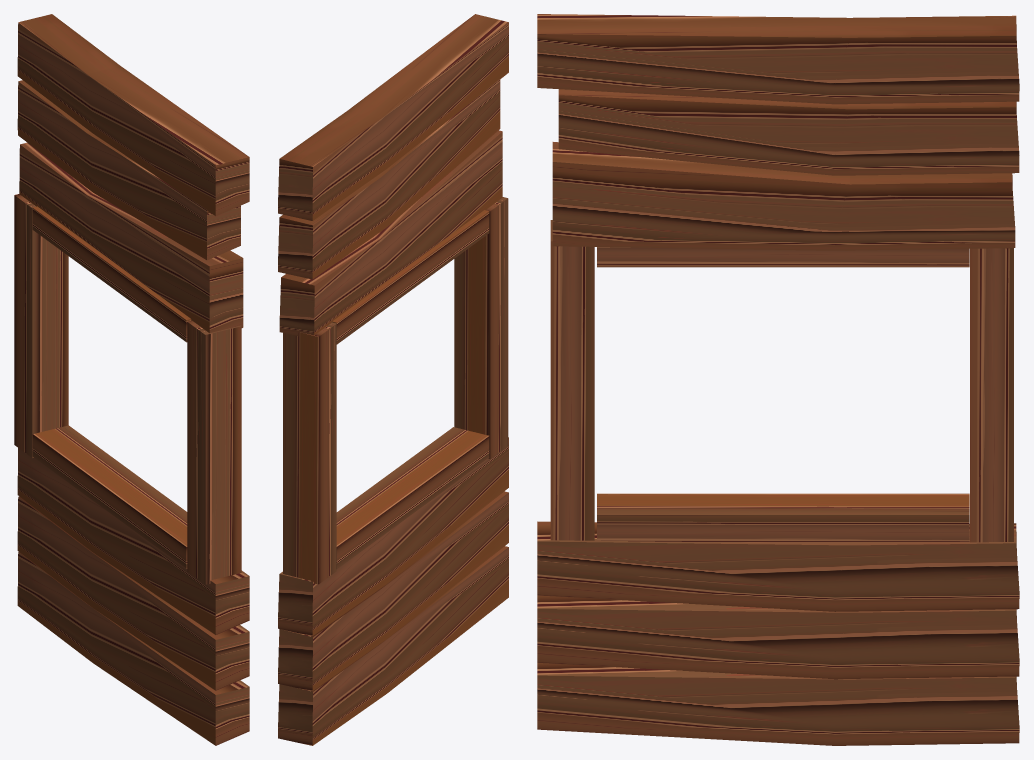
The model's file is MSH_Piso1_Ventana01.FBX.
3 renders of one model, left to right at view 1: azimuth 30°, elevation 25°; view 2: azimuth 150°, elevation 25°; view 3: azimuth 270°, elevation 25°, orthographic. The views are drawn at different scales.
Parts seen in each view (by area): view 1: MSH_Piso1_Ventana01; view 2: MSH_Piso1_Ventana01; view 3: MSH_Piso1_Ventana01.
Part boxes in pixels (left/top/right/bottom): MSH_Piso1_Ventana01: left=14, top=14, right=249, bottom=745; MSH_Piso1_Ventana01: left=278, top=14, right=508, bottom=745; MSH_Piso1_Ventana01: left=537, top=14, right=1019, bottom=745.
Size of the model in its own units: 7.46 by 108 by 66.38.
Materials: 1 (1 with a texture image).
